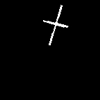single_crochet: (43, 6, 67, 44)
